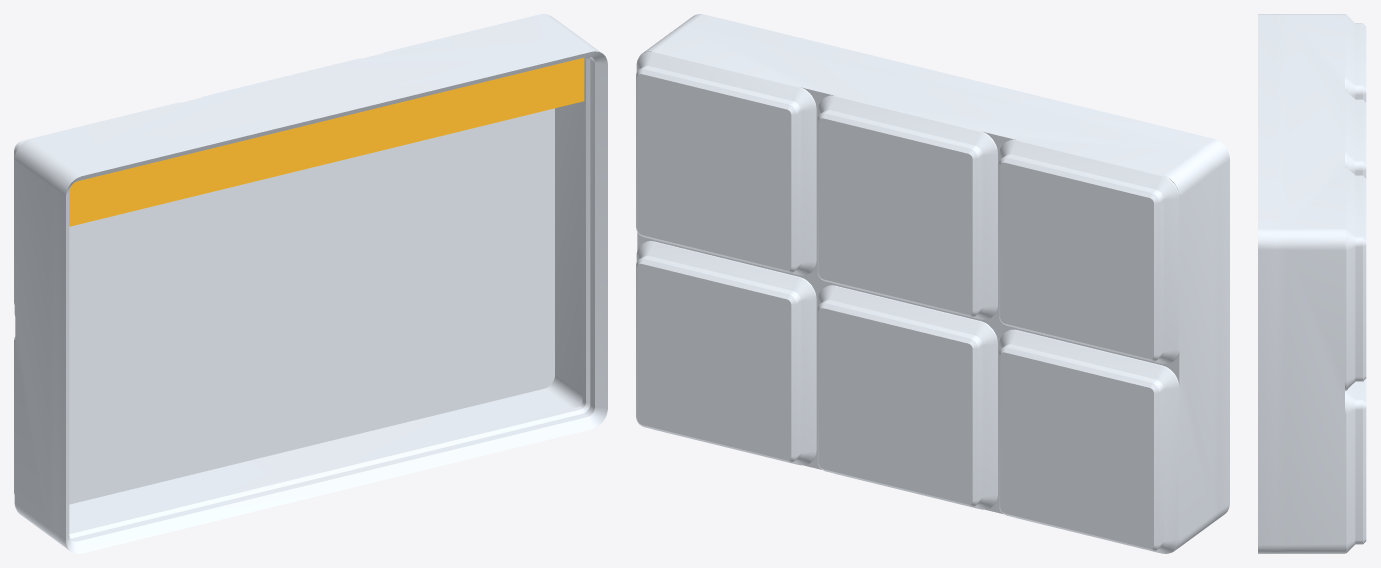
The model's file is label-tab-3x2-solid.glb.
3 renders of one model, left to right at view 1: azimuth 30°, elevation 25°; view 2: azimuth 150°, elevation 25°; view 3: azimuth 270°, elevation 25°, orthographic. The views are drawn at different scales.
Size of the model in its own units: 126 by 83.5 by 25.42.
